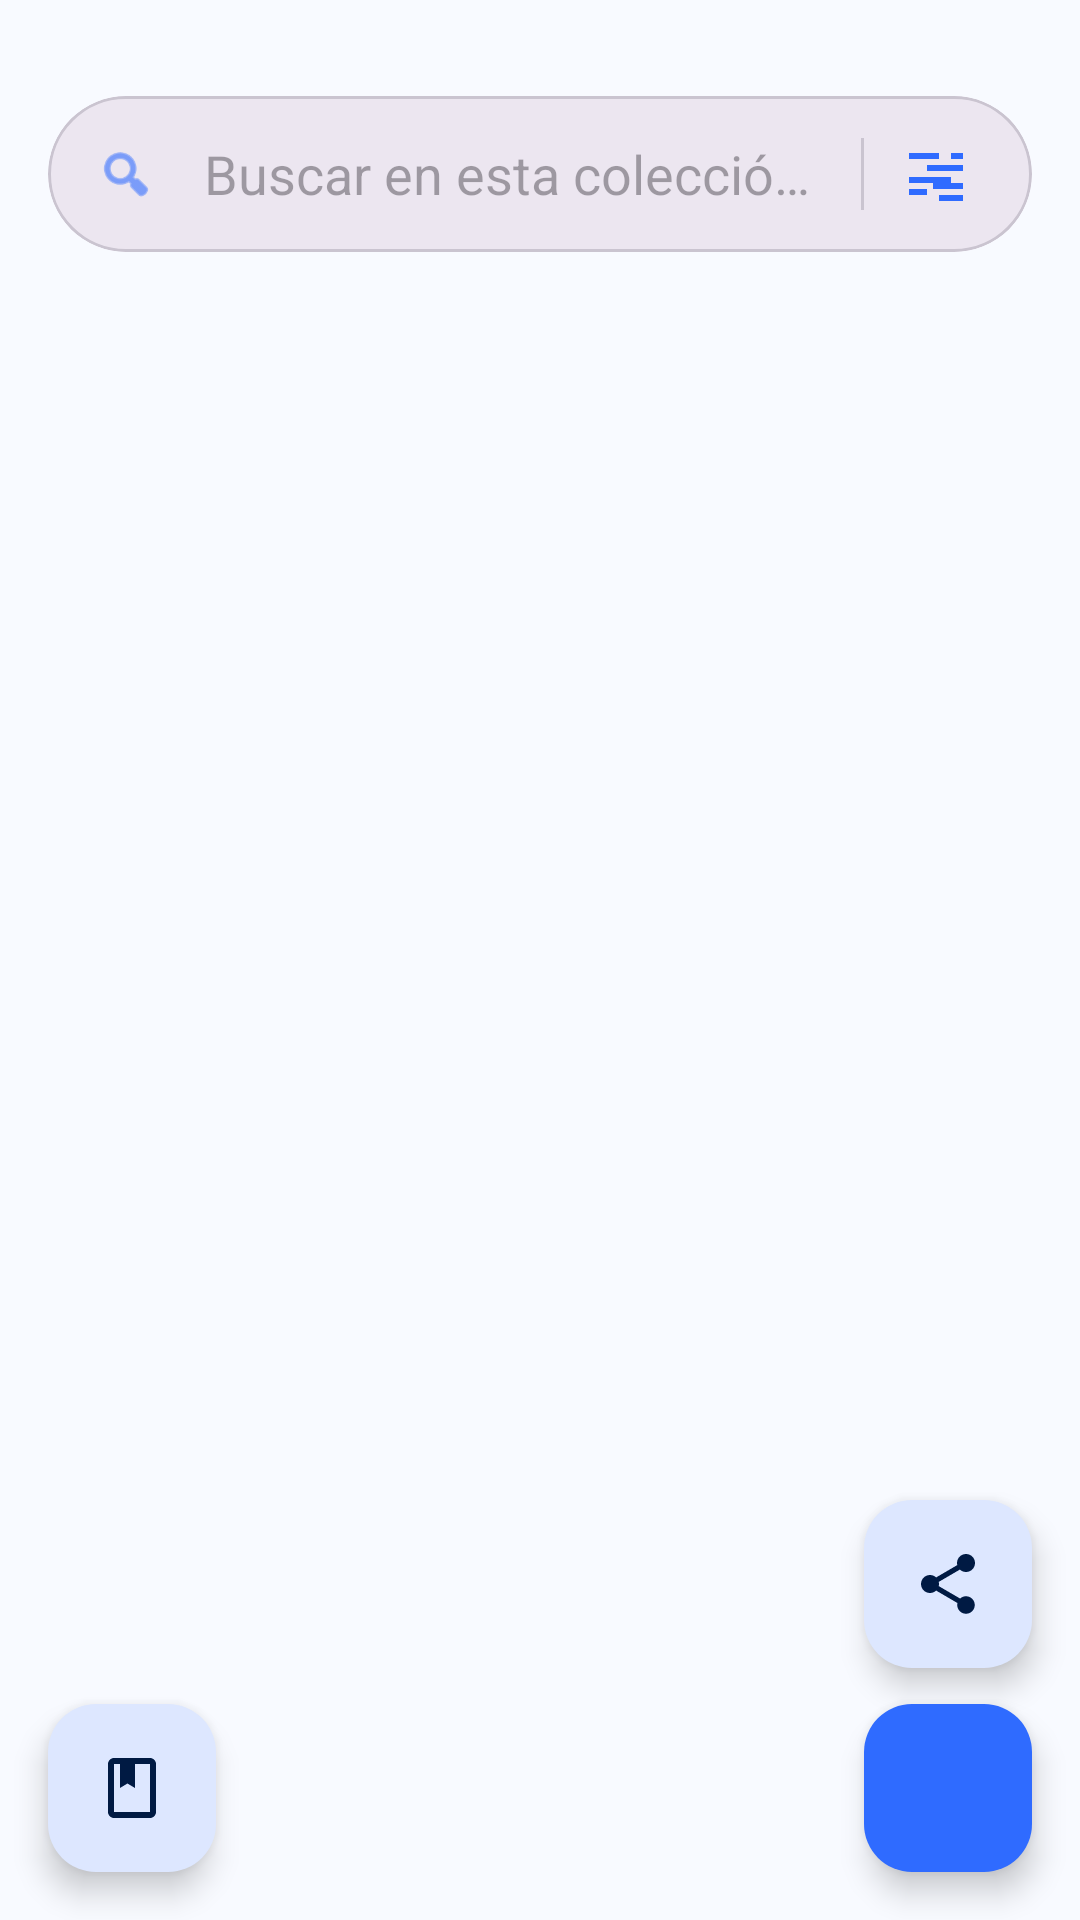

Where to tap for icons on this 1080 x 1920 app screen, as (x=x, y=y):
Filtrar y ordenar: (x=936, y=177)
Icono de búsqueda: (x=126, y=174)
